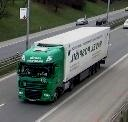truck: (16, 27, 109, 104)
